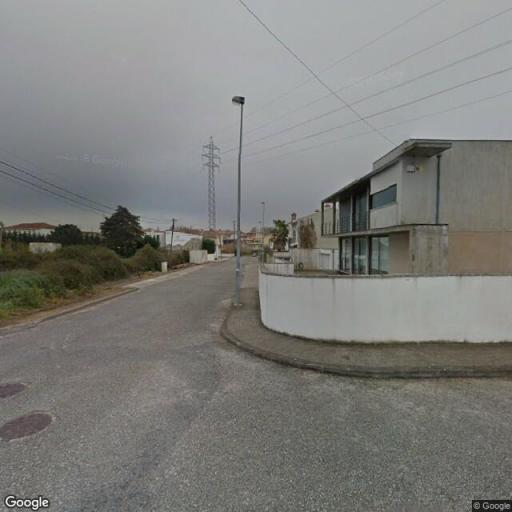ss_3: (199, 135, 222, 244)
